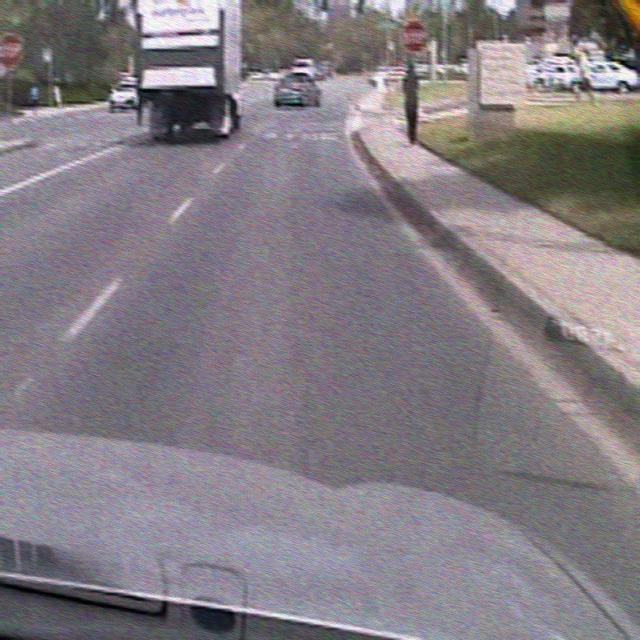stop_sign: (401, 19, 426, 53)
